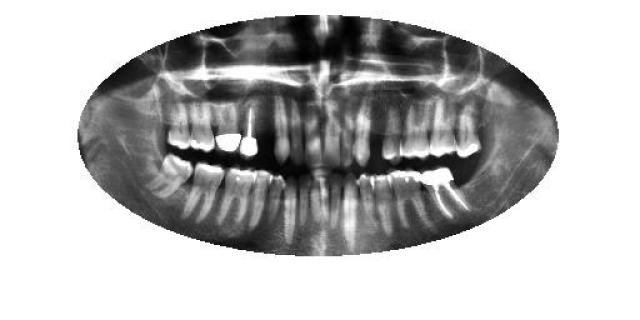Fillings: (388, 169, 432, 229), (456, 100, 484, 159), (215, 98, 241, 152), (189, 101, 216, 152)
Implant: (420, 166, 472, 219), (238, 102, 260, 158)
